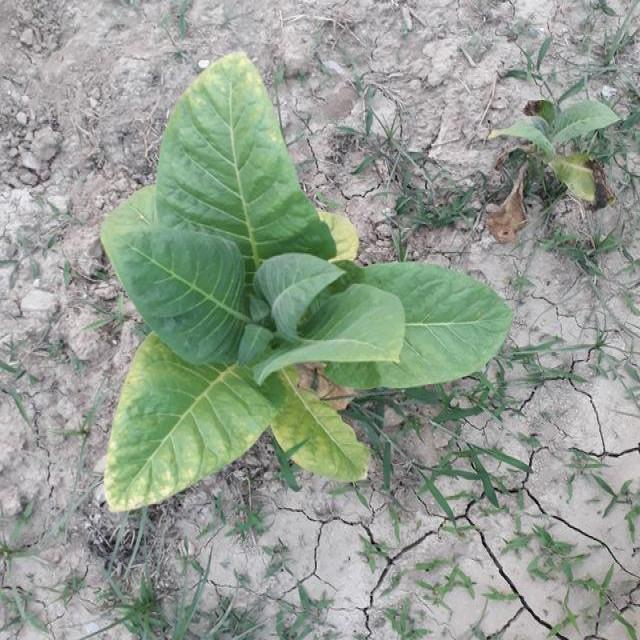crop: (95, 54, 510, 498), (502, 90, 616, 205)
